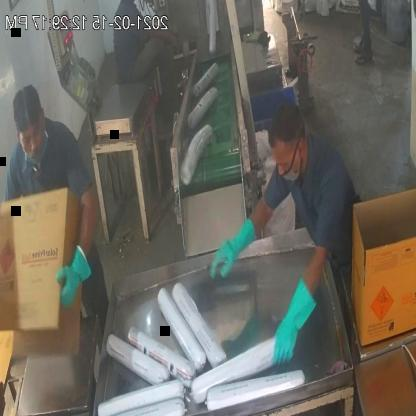glove: (268, 268, 327, 369), (206, 209, 258, 288), (52, 232, 96, 318)
